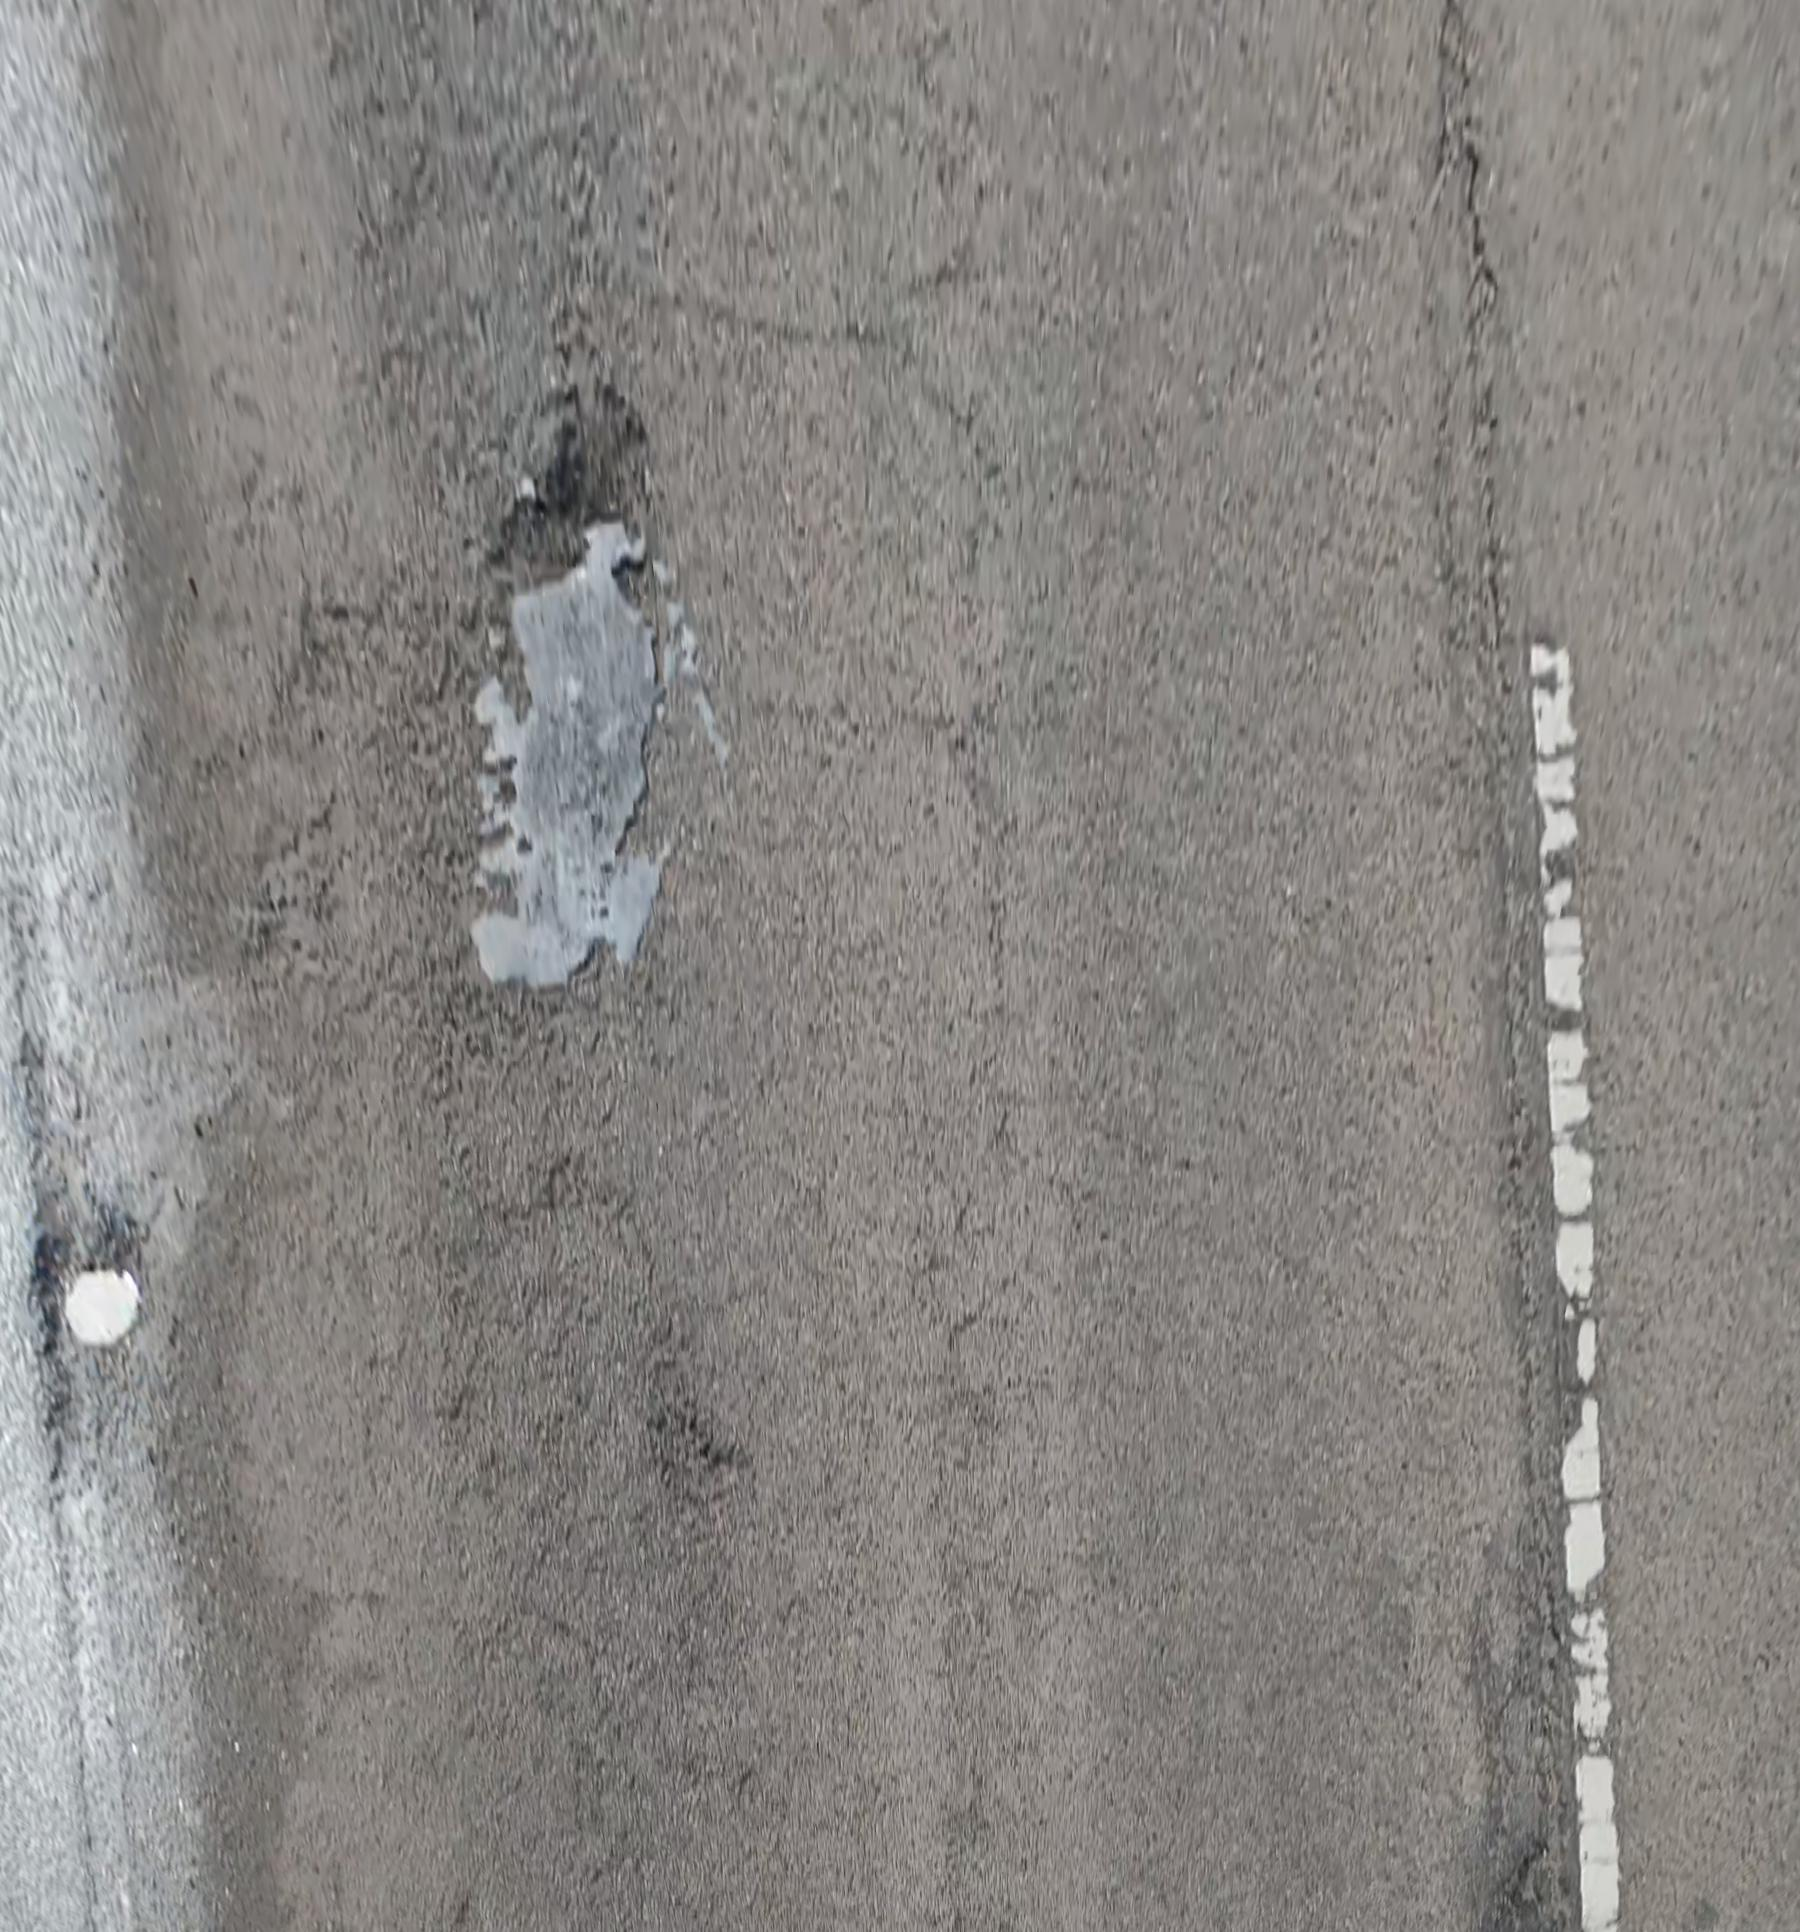pothole: (469, 391, 660, 599)
pothole_patch_poor: (470, 386, 724, 988)
